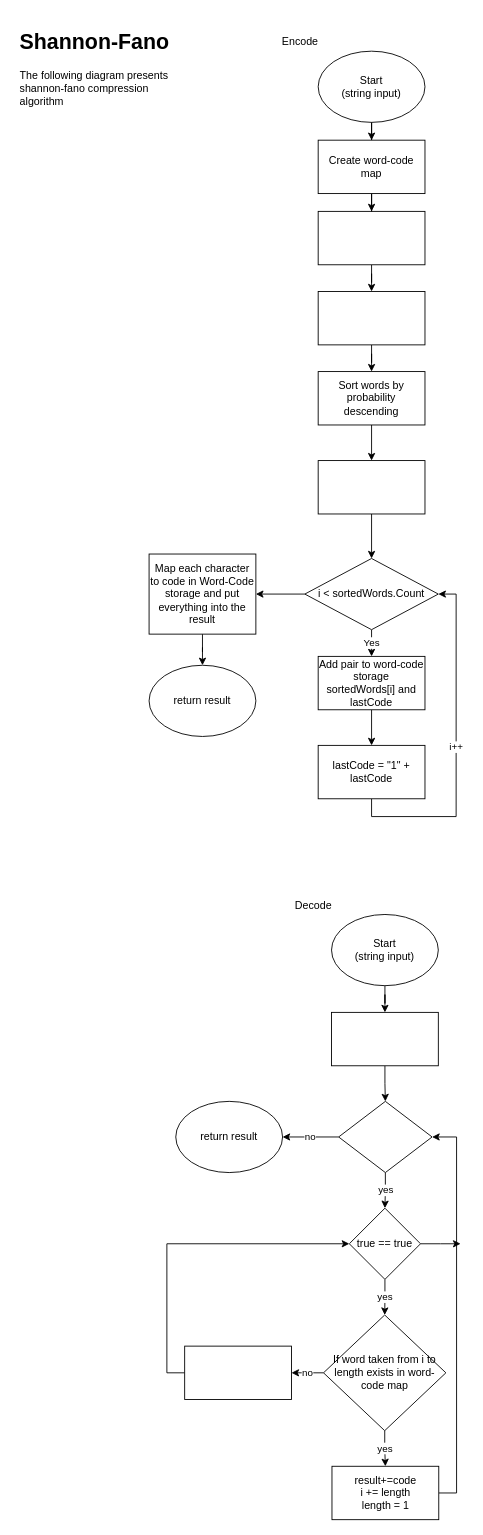
This 483x1535 diagram has some shape labels left out. The shapes that lost their labels are listed below. From the top down, each one's box as (x1, y1, x2, y2) in pixels, then its label:
(317, 210, 425, 265): Create word probability storage (a simple map will suffice)
(317, 291, 425, 345): For each character in input, calculate probability and save result to storage
(317, 460, 425, 514): i = 0 lastCode = "0"
(331, 1011, 438, 1066): i = 0 length = 1 result = ""
(338, 1100, 432, 1173): i < input.Length
(184, 1345, 291, 1400): length++
